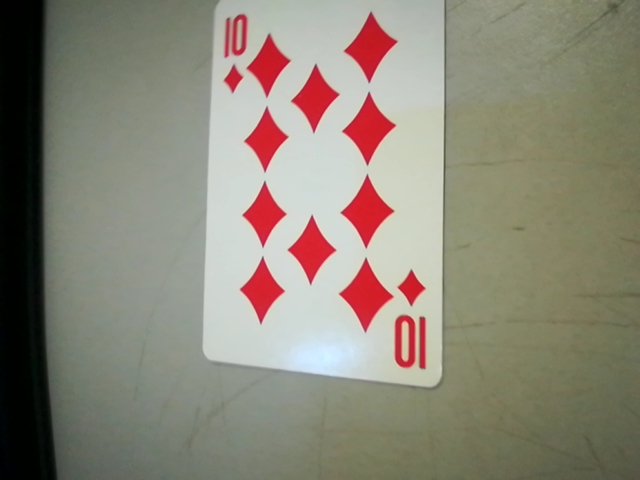fk 10: (386, 265, 439, 380), (212, 1, 257, 96)
